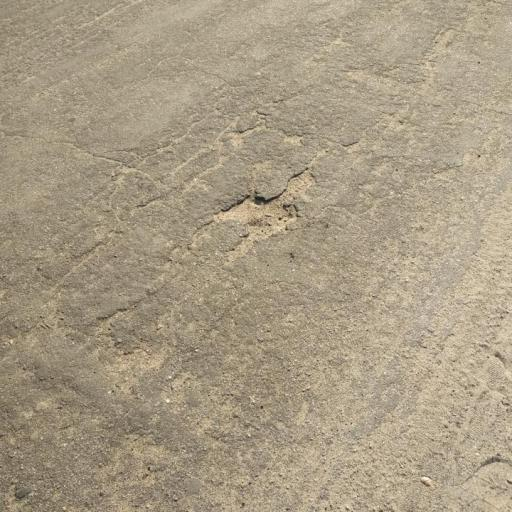pothole: (209, 191, 302, 241), (284, 167, 318, 192)
